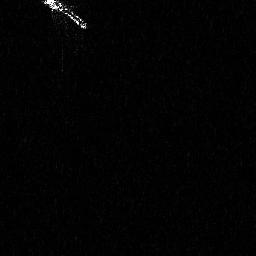ship: (41, 1, 89, 31)
